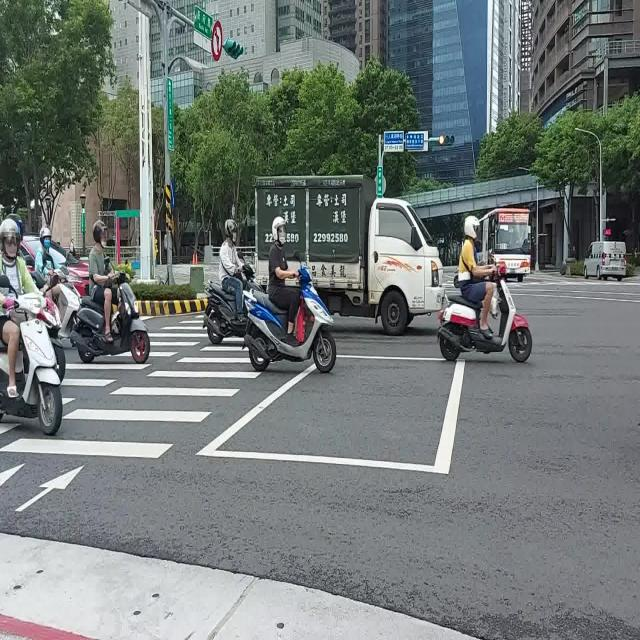bus: (480, 209, 531, 282)
car: (582, 240, 626, 280)
crosswalk: (0, 346, 264, 460), (61, 310, 208, 405)
motocycle: (244, 264, 336, 373), (439, 262, 531, 362), (0, 293, 62, 436), (70, 271, 150, 364), (204, 280, 248, 346), (56, 264, 80, 340), (242, 264, 259, 289)
trunk: (255, 176, 444, 330)
